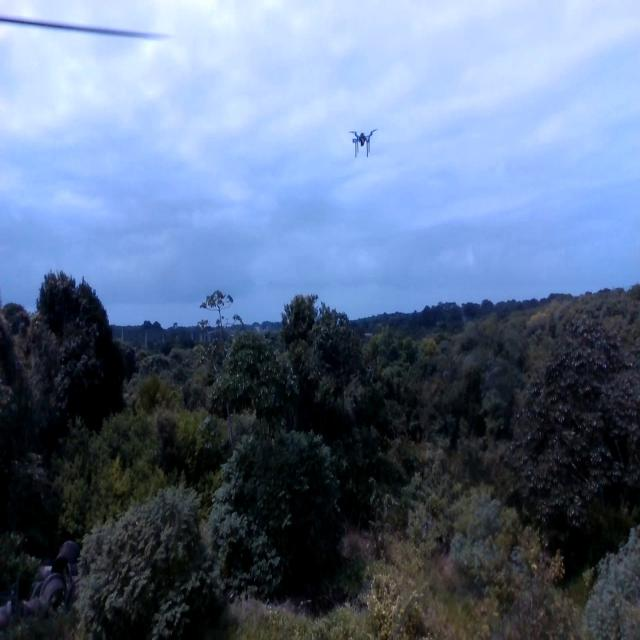-uav-: (340, 116, 384, 173)
